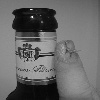beer: (9, 9, 57, 100)
